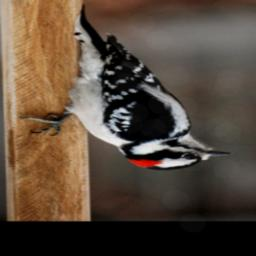Woodpecker: (20, 6, 231, 170)
